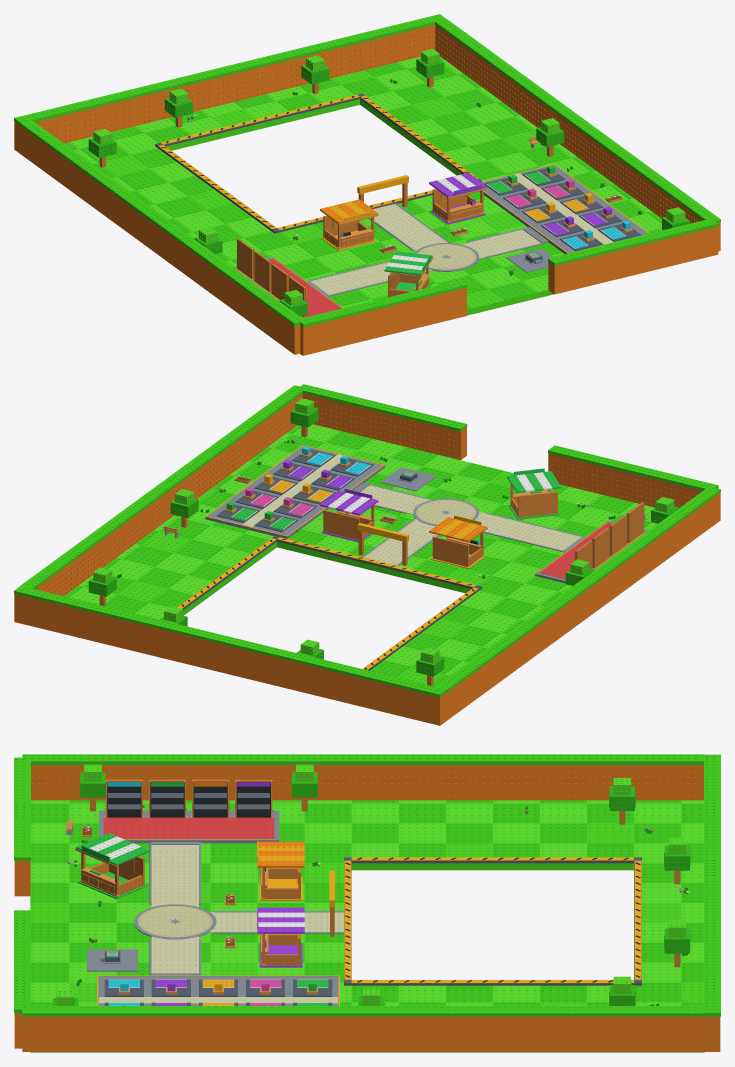
The model's file is EnergyCoreMining-COLORED.fbx.
3 renders of one model, top to bottom at view 1: azimuth 30°, elevation 25°; view 2: azimuth 150°, elevation 25°; view 3: azimuth 270°, elevation 25°, orthographic. The views are drawn at different scales.
Visible parts, largest first — view 1: LobbyGround, BoundaryWalls__NorthWall, BoundaryWalls__SideWall-1, BoundaryWalls__SideWall1, BoundaryWalls__FrontWall1, BoundaryWalls__FrontWall-1, BoundaryWalls__NorthGreenCap, BoundaryWalls__SideGreenCap-1, BoundaryWalls__SideGreenCap1, Paths__AFKPlatform, BoundaryWalls__NorthWallStuds, BoundaryWalls__SideWall1Studs (+33 smaller); view 2: BoundaryWalls__NorthWall, BoundaryWalls__SideWall-1, LobbyGround, BoundaryWalls__SideWall1, BoundaryWalls__NorthGreenCap, BoundaryWalls__FrontWall1, BoundaryWalls__SideGreenCap-1, BoundaryWalls__SideGreenCap1, BoundaryWalls__FrontWall-1, Paths__AFKPlatform, BoundaryWalls__SideWall1Studs, Paths__LeftToLeaderboards (+39 smaller); view 3: BoundaryWalls__SideWall1, LobbyGround, BoundaryWalls__SideWall-1, BoundaryWalls__SideGreenCap1, BoundaryWalls__SideGreenCap-1, BoundaryWalls__NorthGreenCap, Leaderboards__RedCarpet, BoundaryWalls__SideWall-1Studs, Paths__LeftToLeaderboards, LobbyGround__WestGround, Paths__AFKPlatform, Paths__CentralPlaza (+72 smaller).
Part boxes in pixels (x1,y1,x2,y2): LobbyGround: [64, 56, 519, 205]; BoundaryWalls__NorthWall: [14, 25, 435, 153]; BoundaryWalls__SideWall-1: [20, 126, 300, 354]; BoundaryWalls__SideWall1: [435, 25, 720, 251]; BoundaryWalls__FrontWall1: [548, 226, 718, 294]; BoundaryWalls__FrontWall-1: [300, 287, 466, 355]; BoundaryWalls__NorthGreenCap: [14, 14, 445, 124]; BoundaryWalls__SideGreenCap-1: [20, 120, 305, 326]; BoundaryWalls__SideGreenCap1: [435, 19, 720, 222]; Paths__AFKPlatform: [479, 164, 648, 253]; BoundaryWalls__NorthWallStuds: [41, 29, 435, 142]; BoundaryWalls__SideWall1Studs: [438, 32, 697, 223]; BoundaryWalls__NorthWall: [14, 593, 446, 725]; BoundaryWalls__SideWall-1: [446, 492, 720, 720]; LobbyGround: [64, 557, 487, 686]; BoundaryWalls__SideWall1: [35, 393, 302, 596]; BoundaryWalls__NorthGreenCap: [14, 586, 446, 697]; BoundaryWalls__FrontWall1: [302, 393, 466, 460]; BoundaryWalls__SideGreenCap-1: [435, 488, 720, 692]; BoundaryWalls__SideGreenCap1: [20, 385, 302, 588]; BoundaryWalls__FrontWall-1: [548, 453, 702, 507]; Paths__AFKPlatform: [205, 445, 384, 538]; BoundaryWalls__SideWall1Studs: [40, 404, 296, 595]; Paths__LeftToLeaderboards: [475, 512, 581, 550]; BoundaryWalls__SideWall1: [22, 1016, 704, 1051]; LobbyGround: [493, 800, 703, 1005]; BoundaryWalls__SideWall-1: [31, 765, 703, 800]; BoundaryWalls__SideGreenCap1: [22, 1006, 704, 1016]; BoundaryWalls__SideGreenCap-1: [22, 754, 704, 764]; BoundaryWalls__NorthGreenCap: [704, 754, 720, 1016]; Leaderboards__RedCarpet: [103, 817, 274, 838]; BoundaryWalls__SideWall-1Studs: [31, 771, 696, 798]; Paths__LeftToLeaderboards: [151, 845, 198, 907]; LobbyGround__WestGround: [351, 863, 633, 870]; Paths__AFKPlatform: [98, 976, 338, 1005]; Paths__CentralPlaza: [138, 906, 212, 937].
Bounding box in the file's own units: 156 × 13.96 × 180.
